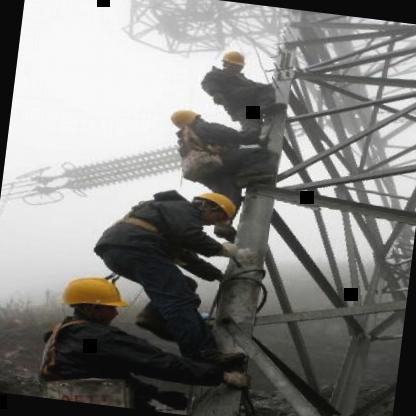helmet: (51, 267, 133, 328), (182, 184, 243, 228), (170, 107, 213, 134), (216, 43, 249, 73)
